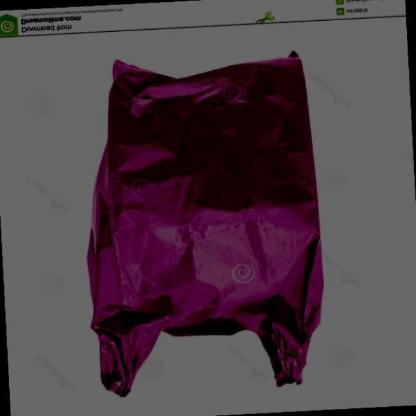Plastic Bag: (84, 48, 326, 400)
